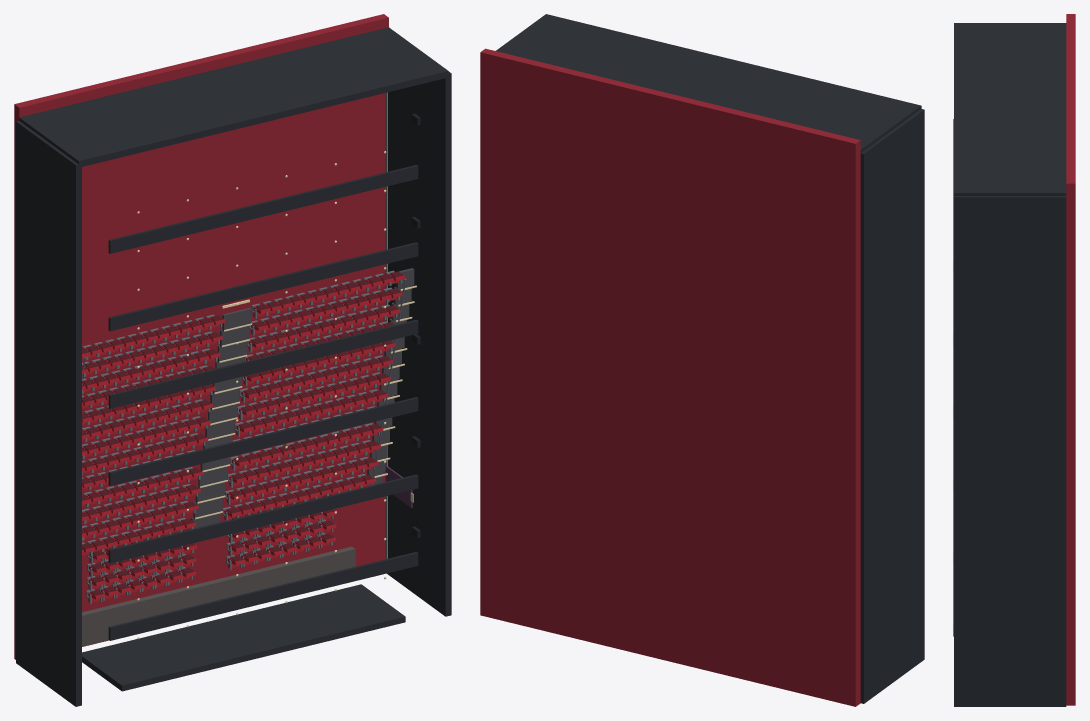
Rendered from cinema_theatre_3d_model.glb.
The picture shows the model from 3 angles, left to right: view 1: azimuth 30°, elevation 25°; view 2: azimuth 150°, elevation 25°; view 3: azimuth 270°, elevation 25°; orthographic projection. The views are drawn at different scales.
Parts seen in each view (by area): view 1: wall, carpet, seat, seat_dark, metal, aisle, stage, light, trim; view 2: carpet, wall; view 3: wall, carpet.
Boxes of the visible parts, x1=… form: wall: x1=16, y1=27, x2=451, y2=706; carpet: x1=14, y1=14, x2=388, y2=659; seat: x1=82, y1=274, x2=405, y2=602; seat_dark: x1=82, y1=271, x2=403, y2=595; metal: x1=82, y1=270, x2=406, y2=604; aisle: x1=191, y1=268, x2=414, y2=528; stage: x1=82, y1=546, x2=355, y2=646; light: x1=137, y1=151, x2=416, y2=639; trim: x1=385, y1=92, x2=387, y2=559; carpet: x1=480, y1=48, x2=860, y2=706; wall: x1=496, y1=14, x2=924, y2=703; wall: x1=953, y1=23, x2=1066, y2=706; carpet: x1=1066, y1=14, x2=1075, y2=705.
Bounding box in the file's own units: 30.5 × 43 × 9.16.
